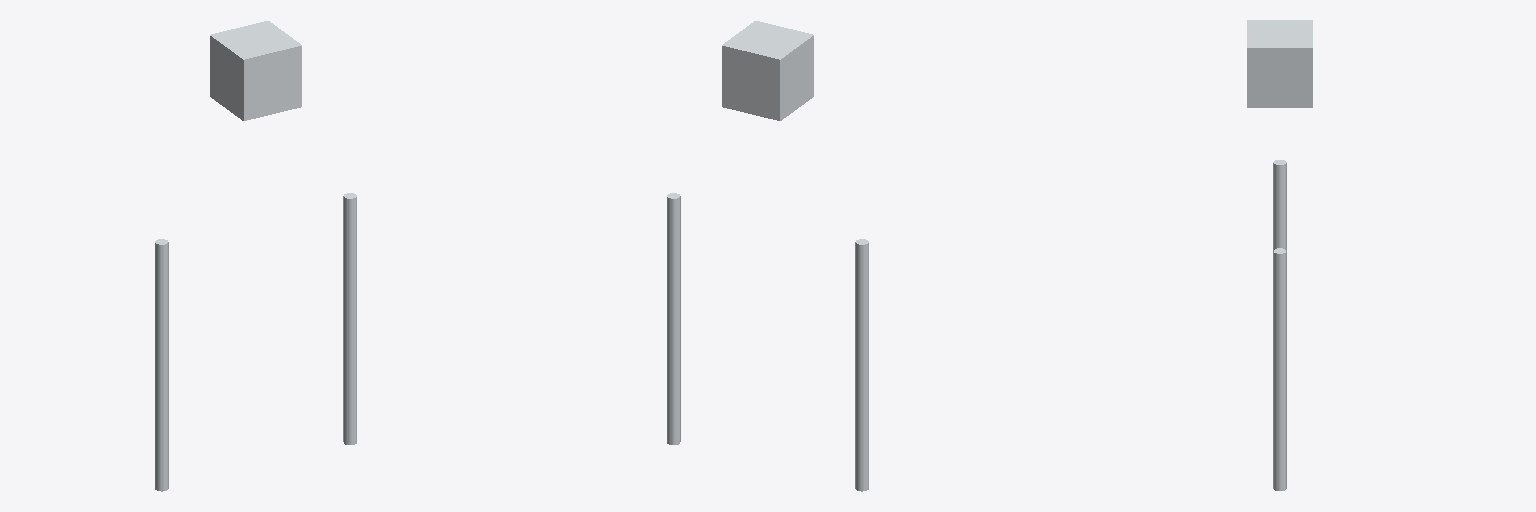
robot.urdf — chopstick_bot:
<?xml version='1.0' encoding='utf-8'?>
<robot name="chopstick_bot">
  <link name="base_motor_link">
    <visual>
      <origin xyz="0.000000 0.000000 0.000000" rpy="0.000000 0.000000 0.000000" />
      <geometry>
        <mesh filename="[local-path]/T7_UBUNTU_ONLY/Codesign_ChopstickBot_all_files/reference/xm430_motor/good_conversion_stl/XL-430_new_coordinate_on_axis.STL" scale="0.001000 0.001000 0.001000" />
        </geometry>
      <material name="motor_gray">
        <color rgba="0.89804 0.91765 0.92941 1.0" />
        </material>
      </visual>
    <collision>
      <origin xyz="0.000000 -0.012000 0.000000" rpy="0.000000 0.000000 0.000000" />
      <geometry>
        <box size="0.028500 0.046500 0.034000" />
        </geometry>
      </collision>
    <inertial>
      <origin xyz="0.000000 -0.012000 0.000000" rpy="0.000000 0.000000 0.000000" />
      <mass value="0.065000" />
      <inertia ixx="0.00001797" ixy="0" ixz="0" iyy="0.00001066" iyz="0" izz="0.00001611" />
      </inertial>
    </link>
  <link name="l_hip_pitch_mount">
    <inertial>
      <origin xyz="0.000000 0.000000 0.000000" rpy="0.000000 0.000000 0.000000" />
      <mass value="0.001000" />
      <inertia ixx="0.00000002" ixy="0" ixz="0" iyy="0.00000002" iyz="0" izz="0.00000002" />
      </inertial>
    </link>
  <joint name="base_to_l_hip_pitch_mount_fixed" type="fixed">
    <origin xyz="-0.040000 0.000000 0.000000" rpy="0.000000 -1.570796 0.000000" />
    <parent link="base_motor_link" />
    <child link="l_hip_pitch_mount" />
    </joint>
  <link name="l_hip_pitch">
    <visual>
      <origin xyz="0.000000 0.000000 0.000000" rpy="0.000000 0.000000 0.000000" />
      <geometry>
        <mesh filename="[local-path]/T7_UBUNTU_ONLY/Codesign_ChopstickBot_all_files/reference/xm430_motor/good_conversion_stl/XL-430_new_coordinate_on_axis.STL" scale="0.001000 0.001000 0.001000" />
        </geometry>
      <material name="motor_gray">
        <color rgba="0.89804 0.91765 0.92941 1.0" />
        </material>
      </visual>
    <collision>
      <origin xyz="0.000000 -0.012000 0.000000" rpy="0.000000 0.000000 0.000000" />
      <geometry>
        <box size="0.028500 0.046500 0.034000" />
        </geometry>
      </collision>
    <inertial>
      <origin xyz="0.000000 -0.012000 0.000000" rpy="0.000000 0.000000 0.000000" />
      <mass value="0.065000" />
      <inertia ixx="0.00001797" ixy="0" ixz="0" iyy="0.00001066" iyz="0" izz="0.00001611" />
      </inertial>
    </link>
  <joint name="l_hip_pitch_joint" type="revolute">
    <origin xyz="0.000000 0.000000 0.000000" rpy="0.000000 0.000000 0.000000" />
    <parent link="l_hip_pitch_mount" />
    <child link="l_hip_pitch" />
    <axis xyz="0.000000 0.000000 1.000000" />
    <limit lower="-1.57" upper="1.57" effort="3.0" velocity="6.0" />
    </joint>
  <link name="l_hip_roll">
    <visual>
      <origin xyz="0.000000 0.000000 0.000000" rpy="0.000000 0.000000 0.000000" />
      <geometry>
        <mesh filename="[local-path]/T7_UBUNTU_ONLY/Codesign_ChopstickBot_all_files/reference/xm430_motor/good_conversion_stl/XL-430_new_coordinate_on_axis.STL" scale="0.001000 0.001000 0.001000" />
        </geometry>
      <material name="motor_gray">
        <color rgba="0.89804 0.91765 0.92941 1.0" />
        </material>
      </visual>
    <collision>
      <origin xyz="0.000000 -0.012000 0.000000" rpy="0.000000 0.000000 0.000000" />
      <geometry>
        <box size="0.028500 0.046500 0.034000" />
        </geometry>
      </collision>
    <inertial>
      <origin xyz="0.000000 -0.012000 0.000000" rpy="0.000000 0.000000 0.000000" />
      <mass value="0.065000" />
      <inertia ixx="0.00001797" ixy="0" ixz="0" iyy="0.00001066" iyz="0" izz="0.00001611" />
      </inertial>
    </link>
  <joint name="l_hip_roll_joint" type="revolute">
    <origin xyz="0.000000 0.000000 0.040000" rpy="0.000000 -1.570796 -1.570796" />
    <parent link="l_hip_pitch" />
    <child link="l_hip_roll" />
    <axis xyz="0.000000 0.000000 1.000000" />
    <limit lower="-1.57" upper="1.57" effort="3.0" velocity="6.0" />
    </joint>
  <link name="l_leg_bar">
    <visual>
      <origin xyz="0.000000 -0.170000 0.000000" rpy="1.570796 0.000000 0.000000" />
      <geometry>
        <cylinder radius="0.005000" length="0.200000" />
        </geometry>
      <material name="chopstick_gray">
        <color rgba="0.89804 0.91765 0.92941 1.0" />
        </material>
      </visual>
    <collision>
      <origin xyz="0.000000 -0.170000 0.000000" rpy="1.570796 0.000000 0.000000" />
      <geometry>
        <cylinder radius="0.005000" length="0.200000" />
        </geometry>
      </collision>
    <inertial>
      <origin xyz="0.000000 0.000000 0.000000" rpy="0.000000 0.000000 0.000000" />
      <mass value="0.030000" />
      <inertia ixx="0.00010019" ixy="0" ixz="0" iyy="0.00010019" iyz="0" izz="0.00000037" />
      </inertial>
    </link>
  <joint name="l_hip_roll_to_l_leg_bar_fixed" type="fixed">
    <origin xyz="0.000000 -0.000000 0.000000" rpy="0.000000 0.000000 0.000000" />
    <parent link="l_hip_roll" />
    <child link="l_leg_bar" />
    </joint>
  <link name="r_hip_pitch_mount">
    <inertial>
      <origin xyz="0.000000 0.000000 0.000000" rpy="0.000000 0.000000 0.000000" />
      <mass value="0.001000" />
      <inertia ixx="0.00000002" ixy="0" ixz="0" iyy="0.00000002" iyz="0" izz="0.00000002" />
      </inertial>
    </link>
  <joint name="base_to_r_hip_pitch_mount_fixed" type="fixed">
    <origin xyz="0.040000 0.000000 0.000000" rpy="0.000000 1.570796 -0.000000" />
    <parent link="base_motor_link" />
    <child link="r_hip_pitch_mount" />
    </joint>
  <link name="r_hip_pitch">
    <visual>
      <origin xyz="0.000000 0.000000 0.000000" rpy="0.000000 0.000000 0.000000" />
      <geometry>
        <mesh filename="[local-path]/T7_UBUNTU_ONLY/Codesign_ChopstickBot_all_files/reference/xm430_motor/good_conversion_stl/XL-430_new_coordinate_on_axis.STL" scale="0.001000 0.001000 0.001000" />
        </geometry>
      <material name="motor_gray">
        <color rgba="0.89804 0.91765 0.92941 1.0" />
        </material>
      </visual>
    <collision>
      <origin xyz="0.000000 -0.012000 0.000000" rpy="0.000000 0.000000 0.000000" />
      <geometry>
        <box size="0.028500 0.046500 0.034000" />
        </geometry>
      </collision>
    <inertial>
      <origin xyz="0.000000 -0.012000 0.000000" rpy="0.000000 0.000000 0.000000" />
      <mass value="0.065000" />
      <inertia ixx="0.00001797" ixy="0" ixz="0" iyy="0.00001066" iyz="0" izz="0.00001611" />
      </inertial>
    </link>
  <joint name="r_hip_pitch_joint" type="revolute">
    <origin xyz="0.000000 0.000000 0.000000" rpy="0.000000 0.000000 0.000000" />
    <parent link="r_hip_pitch_mount" />
    <child link="r_hip_pitch" />
    <axis xyz="0.000000 0.000000 1.000000" />
    <limit lower="-1.57" upper="1.57" effort="3.0" velocity="6.0" />
    </joint>
  <link name="r_hip_roll">
    <visual>
      <origin xyz="0.000000 0.000000 0.000000" rpy="0.000000 0.000000 0.000000" />
      <geometry>
        <mesh filename="[local-path]/T7_UBUNTU_ONLY/Codesign_ChopstickBot_all_files/reference/xm430_motor/good_conversion_stl/XL-430_new_coordinate_on_axis.STL" scale="0.001000 0.001000 0.001000" />
        </geometry>
      <material name="motor_gray">
        <color rgba="0.89804 0.91765 0.92941 1.0" />
        </material>
      </visual>
    <collision>
      <origin xyz="0.000000 -0.012000 0.000000" rpy="0.000000 0.000000 0.000000" />
      <geometry>
        <box size="0.028500 0.046500 0.034000" />
        </geometry>
      </collision>
    <inertial>
      <origin xyz="0.000000 -0.012000 0.000000" rpy="0.000000 0.000000 0.000000" />
      <mass value="0.065000" />
      <inertia ixx="0.00001797" ixy="0" ixz="0" iyy="0.00001066" iyz="0" izz="0.00001611" />
      </inertial>
    </link>
  <joint name="r_hip_roll_joint" type="revolute">
    <origin xyz="-0.000000 0.000000 0.040000" rpy="0.000000 1.570796 1.570796" />
    <parent link="r_hip_pitch" />
    <child link="r_hip_roll" />
    <axis xyz="0.000000 0.000000 1.000000" />
    <limit lower="-1.57" upper="1.57" effort="3.0" velocity="6.0" />
    </joint>
  <link name="r_leg_bar">
    <visual>
      <origin xyz="-0.000000 -0.170000 0.000000" rpy="1.570796 0.000000 0.000000" />
      <geometry>
        <cylinder radius="0.005000" length="0.200000" />
        </geometry>
      <material name="chopstick_gray">
        <color rgba="0.89804 0.91765 0.92941 1.0" />
        </material>
      </visual>
    <collision>
      <origin xyz="-0.000000 -0.170000 0.000000" rpy="1.570796 0.000000 0.000000" />
      <geometry>
        <cylinder radius="0.005000" length="0.200000" />
        </geometry>
      </collision>
    <inertial>
      <origin xyz="0.000000 0.000000 0.000000" rpy="0.000000 0.000000 0.000000" />
      <mass value="0.030000" />
      <inertia ixx="0.00010019" ixy="0" ixz="0" iyy="0.00010019" iyz="0" izz="0.00000037" />
      </inertial>
    </link>
  <joint name="r_hip_roll_to_r_leg_bar_fixed" type="fixed">
    <origin xyz="-0.000000 -0.000000 0.000000" rpy="0.000000 0.000000 0.000000" />
    <parent link="r_hip_roll" />
    <child link="r_leg_bar" />
    </joint>
  <link name="trunk_link">
    <visual>
      <origin xyz="0.000000 0.000000 0.000000" rpy="0.000000 0.000000 0.000000" />
      <geometry>
        <box size="0.050000 0.050000 0.050000" />
        </geometry>
      <material name="trunk_gray">
        <color rgba="0.89804 0.91765 0.92941 1.0" />
        </material>
      </visual>
    <collision>
      <origin xyz="0.000000 0.000000 0.000000" rpy="0.000000 0.000000 0.000000" />
      <geometry>
        <box size="0.050000 0.050000 0.050000" />
        </geometry>
      </collision>
    <inertial>
      <origin xyz="0.000000 0.000000 0.000000" rpy="0.000000 0.000000 0.000000" />
      <mass value="0.200000" />
      <inertia ixx="0.00008333" ixy="0" ixz="0" iyy="0.00008333" iyz="0" izz="0.00008333" />
      </inertial>
    </link>
  <joint name="base_to_trunk" type="revolute">
    <origin xyz="0.000000 0.000000 0.050000" rpy="0.000000 0.000000 0.000000" />
    <parent link="base_motor_link" />
    <child link="trunk_link" />
    <axis xyz="0.000000 0.000000 1.000000" />
    <limit lower="-3.14159" upper="3.14159" effort="5.0" velocity="8.0" />
    </joint>
  </robot>

--- Facts derived from the render (not from the file) ---
The picture shows the robot from 3 angles, left to right: view 1: azimuth 30°, elevation 25°; view 2: azimuth 150°, elevation 25°; view 3: azimuth 270°, elevation 25°; orthographic projection.
Model chopstick_bot with 10 links and 9 joints (5 revolute, 4 fixed), rooted at base_motor_link, posed every joint at zero.
Visible links, largest first — view 1: trunk_link, l_leg_bar, r_leg_bar; view 2: trunk_link, l_leg_bar, r_leg_bar; view 3: trunk_link, r_leg_bar, l_leg_bar.
Boxes of the visible links, x1=… form: trunk_link: x1=210, y1=21, x2=301, y2=120; l_leg_bar: x1=155, y1=239, x2=168, y2=491; r_leg_bar: x1=343, y1=193, x2=356, y2=444; trunk_link: x1=722, y1=21, x2=813, y2=120; l_leg_bar: x1=855, y1=239, x2=868, y2=491; r_leg_bar: x1=667, y1=193, x2=680, y2=444; trunk_link: x1=1247, y1=20, x2=1312, y2=107; r_leg_bar: x1=1273, y1=248, x2=1286, y2=490; l_leg_bar: x1=1273, y1=160, x2=1286, y2=250.
Size in the robot's own frame: 0.17 by 0.05 by 0.345 metres.
Geometry: only primitive shapes (box / cylinder / sphere) drawn; not drawn: 5 mesh visuals (reference in a form the renderer does not follow).